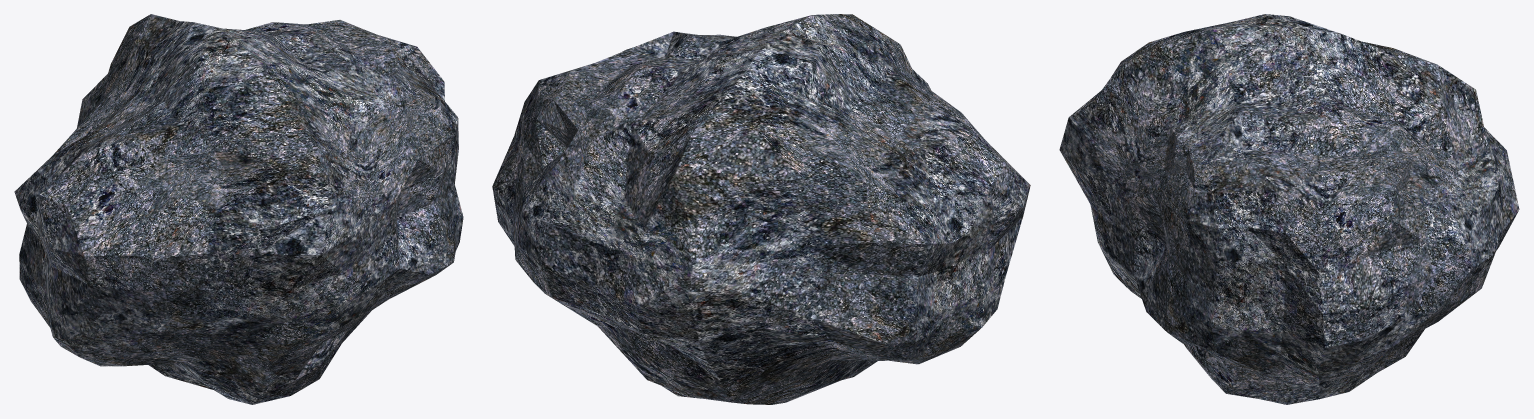
File: asteroid_iron_large_s02_l0.fbx
3 renders of one model, left to right at view 1: azimuth 30°, elevation 25°; view 2: azimuth 150°, elevation 25°; view 3: azimuth 270°, elevation 25°, orthographic. The views are drawn at different scales.
Parts seen in each view (by area): view 1: mesh_node; view 2: mesh_node; view 3: mesh_node.
Boxes of the visible parts, box(x1,y1,x2,y2) form: mesh_node: box(14, 14, 463, 404); mesh_node: box(492, 14, 1030, 404); mesh_node: box(1059, 14, 1519, 404).
Size of the model in its own units: 112 by 84.17 by 98.98.
